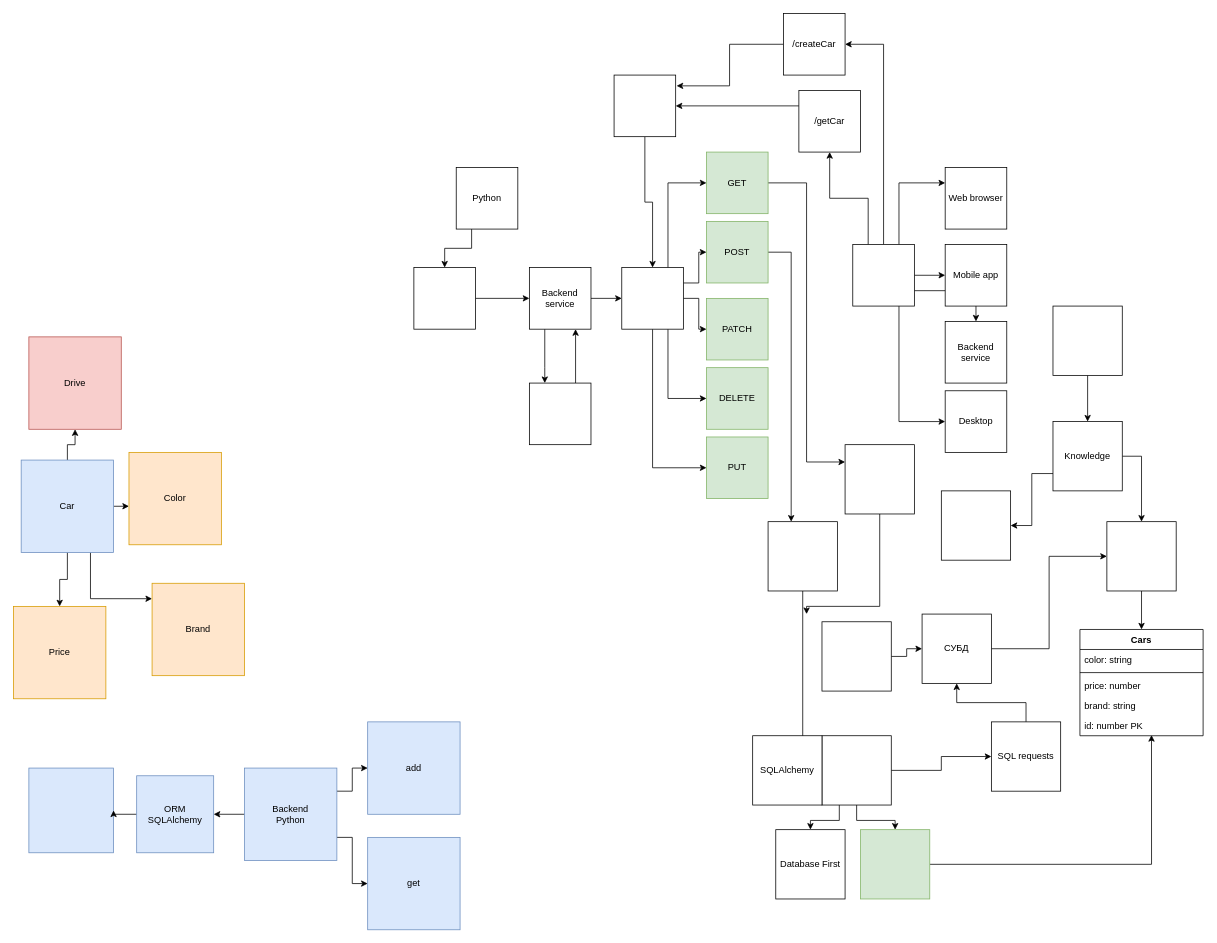
Image size: 1217x943. Some labels were removed from this diagram. The shapes that lost their labels are listed below. From the top down, each one's box as (x1, y1, x2, y2) in pixels, then its label:
(613, 74, 676, 137): Routes
(852, 244, 914, 306): CLIENT
(413, 267, 475, 329): Framework Flask
(621, 267, 683, 329): API
(1052, 305, 1122, 375): Information
(529, 382, 591, 445): Database
(844, 444, 914, 514): def getCar
(941, 490, 1011, 560): No relation database
(767, 521, 837, 591): def createCar
(1106, 521, 1176, 591): Relation databases
(821, 621, 891, 691): Приложений
(821, 735, 891, 805): ORM
(28, 767, 114, 853): Database Postgres
(860, 829, 930, 899): Code First
